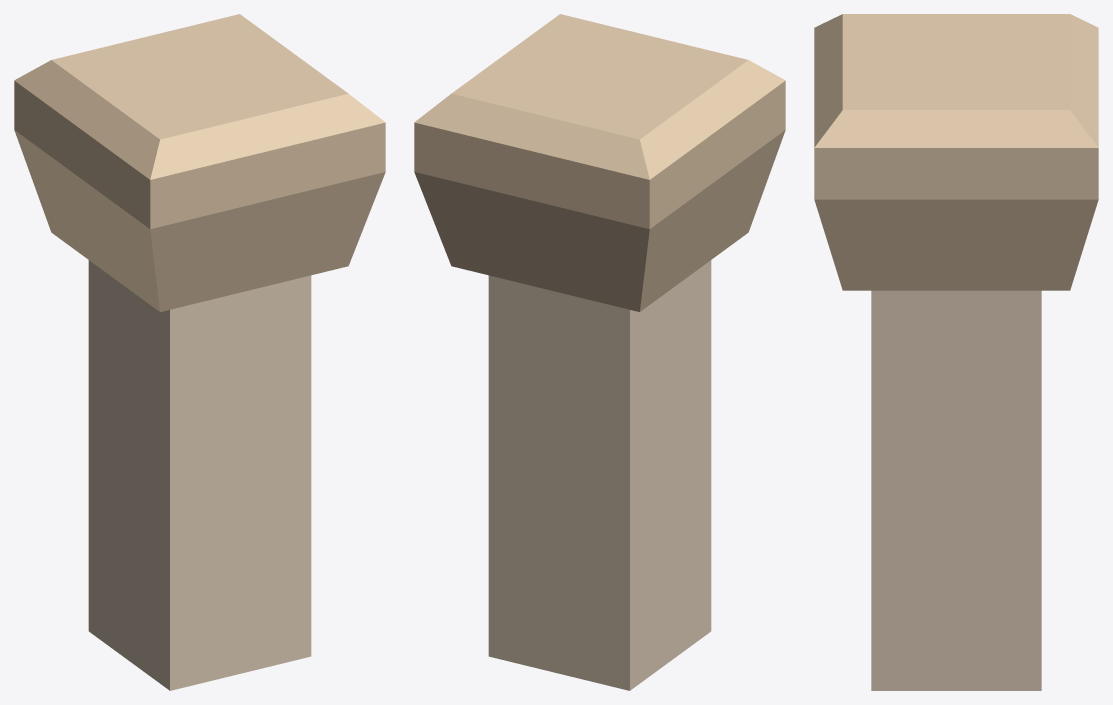
Rendered from opengameart-modular-temple-3d-models_17.glb.
3 renders of one model, left to right at view 1: azimuth 30°, elevation 25°; view 2: azimuth 150°, elevation 25°; view 3: azimuth 270°, elevation 25°, orthographic. The views are drawn at different scales.
Visible parts, largest first — view 1: object1, object2; view 2: object1, object2; view 3: object2, object1.
Boxes of the visible parts, bbox=[...] form: object1: bbox=[88, 260, 311, 690]; object2: bbox=[14, 14, 385, 311]; object1: bbox=[488, 260, 711, 690]; object2: bbox=[414, 14, 785, 311]; object2: bbox=[814, 14, 1098, 290]; object1: bbox=[871, 290, 1041, 690].
Size of the model in its own units: 0.5 by 1.15 by 0.5.
